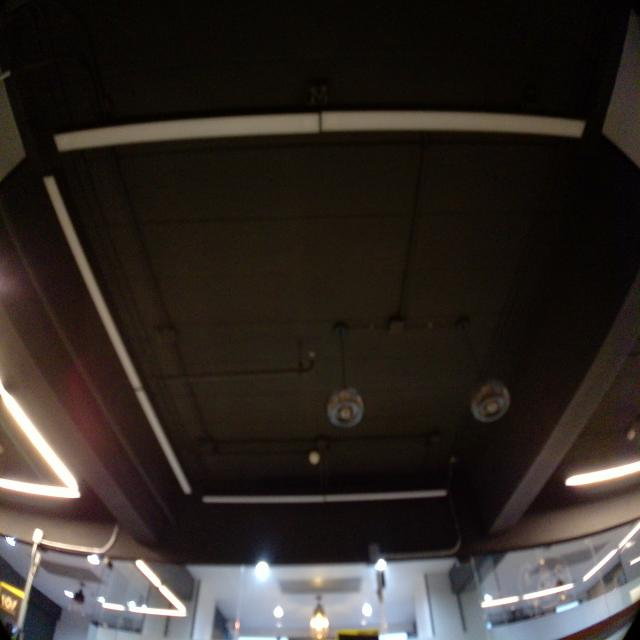lamp2_off: (34, 170, 201, 501), (46, 94, 597, 164), (197, 481, 459, 508)
